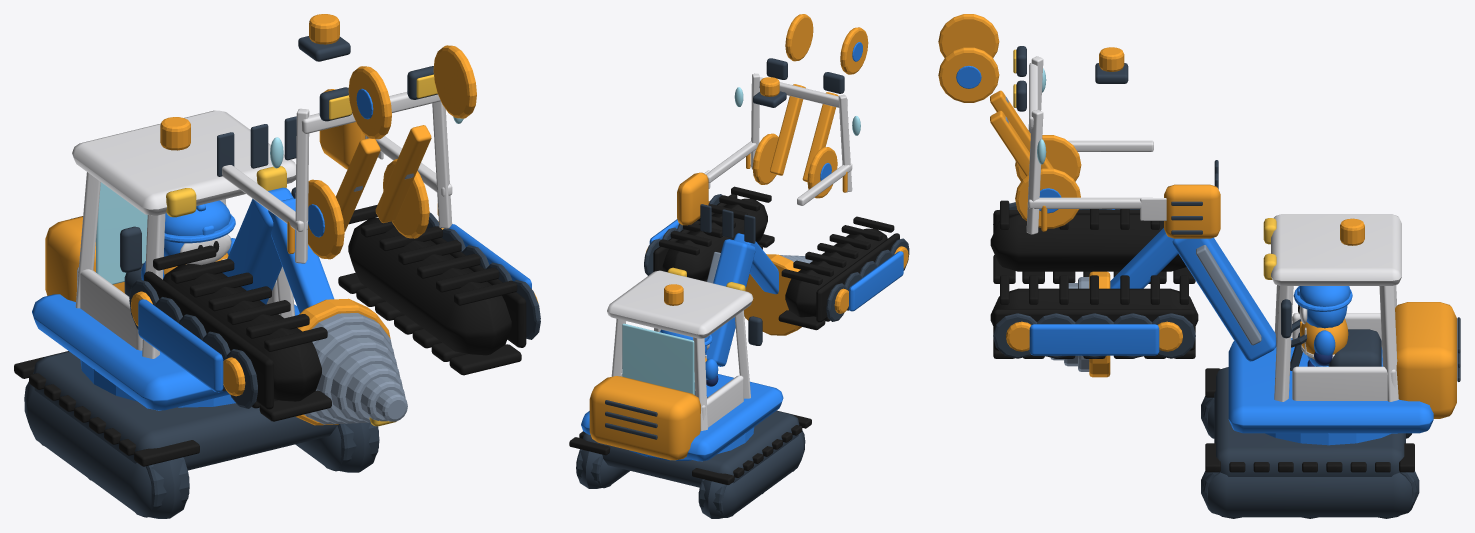
File: drill.glb
The picture shows the model from 3 angles, left to right: view 1: azimuth 30°, elevation 25°; view 2: azimuth 150°, elevation 25°; view 3: azimuth 270°, elevation 25°; orthographic projection. The views are drawn at different scales.
Visible parts, largest first — view 1: black_mesh.011, track_mesh.005, white_mesh.010, orange_mesh.020, team_mesh.035, steel_mesh.011, track_mesh.006, white_mesh.012, team_mesh.043, orange_mesh.017, team_mesh.041, glass_mesh.004 (+7 smaller); view 2: black_mesh.011, track_mesh.005, white_mesh.010, orange_mesh.020, orange_mesh.017, glass_mesh.004, track_mesh.006, team_mesh.035, white_mesh.012, team_mesh.041, orange_mesh.019, team_mesh.043 (+2 smaller); view 3: track_mesh.005, black_mesh.011, white_mesh.010, orange_mesh.020, team_mesh.035, orange_mesh.017, white_mesh.012, track_mesh.006, team_mesh.043, team_mesh.041, black_mesh.009, team_mesh.036 (+4 smaller).
Boxes of the visible parts, x1,y1,x2,y2 form: black_mesh.011: [144, 204, 526, 421]; track_mesh.005: [24, 187, 379, 518]; white_mesh.010: [72, 110, 295, 358]; orange_mesh.020: [130, 14, 538, 396]; team_mesh.035: [32, 294, 299, 410]; steel_mesh.011: [304, 313, 407, 424]; track_mesh.006: [129, 36, 540, 408]; white_mesh.012: [222, 92, 452, 263]; team_mesh.043: [138, 88, 531, 392]; orange_mesh.017: [45, 117, 190, 301]; team_mesh.041: [222, 187, 293, 304]; glass_mesh.004: [96, 182, 147, 284]; black_mesh.011: [653, 186, 899, 330]; track_mesh.005: [576, 316, 805, 518]; white_mesh.010: [607, 270, 753, 430]; orange_mesh.020: [646, 14, 908, 313]; orange_mesh.017: [589, 284, 700, 460]; glass_mesh.004: [622, 323, 694, 394]; track_mesh.006: [644, 58, 909, 321]; team_mesh.035: [581, 374, 783, 461]; white_mesh.012: [704, 73, 852, 205]; team_mesh.041: [705, 239, 755, 366]; orange_mesh.019: [744, 254, 801, 335]; team_mesh.043: [649, 42, 903, 311]; track_mesh.005: [1201, 299, 1460, 518]; black_mesh.011: [990, 200, 1198, 358]; white_mesh.010: [1271, 214, 1401, 401]; orange_mesh.020: [938, 14, 1220, 351]; team_mesh.035: [1228, 338, 1433, 445]; orange_mesh.017: [1340, 218, 1456, 418]; white_mesh.012: [1026, 56, 1166, 234]; track_mesh.006: [993, 46, 1218, 358]; team_mesh.043: [956, 65, 1159, 355]; team_mesh.041: [1172, 237, 1276, 361]; black_mesh.009: [1205, 368, 1414, 472]; team_mesh.036: [1293, 286, 1352, 366].
Size of the model in its own units: 2.25 by 3.74 by 3.95.
